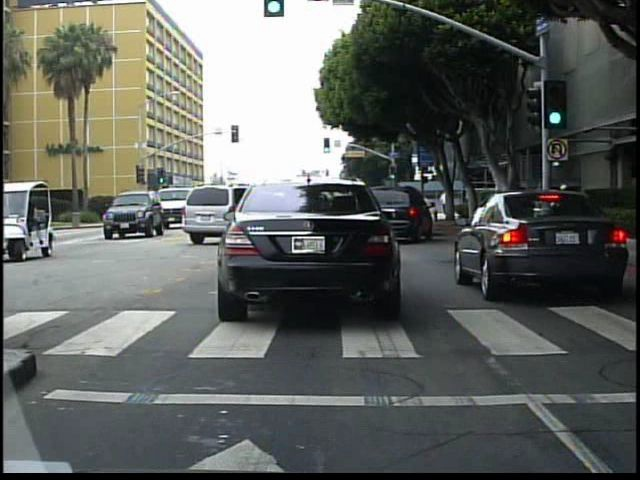person: (538, 174, 558, 232), (436, 186, 450, 219)
